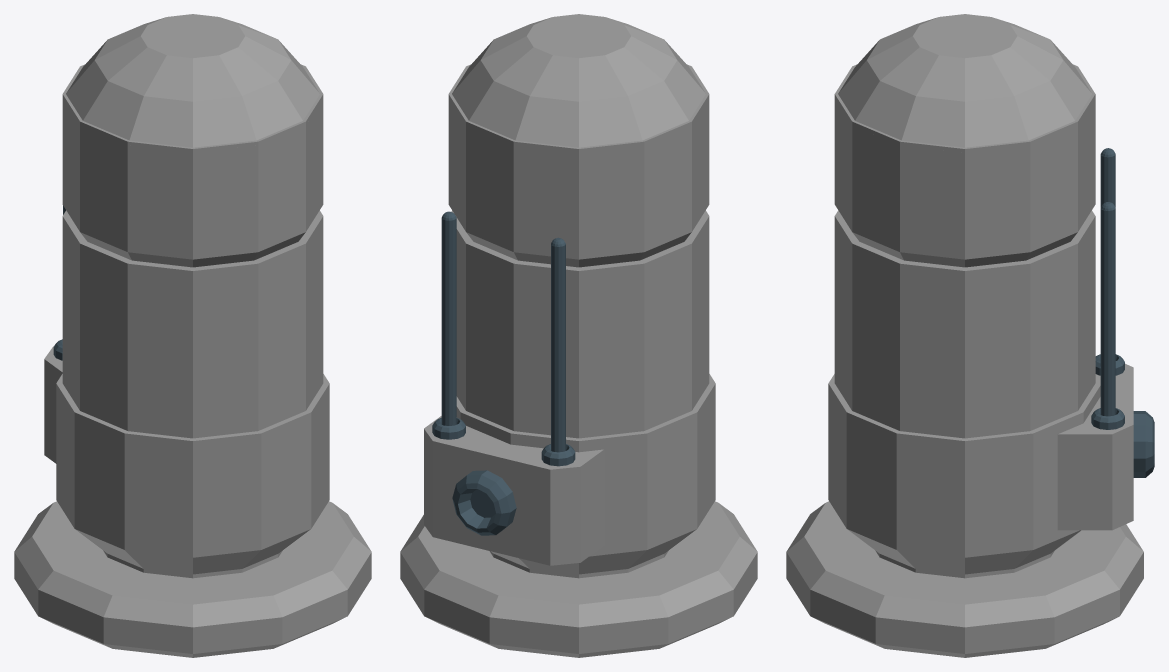
Rendered from head04.glb.
3 views of the same model, side by side, from view 1: azimuth 30°, elevation 25°; view 2: azimuth 150°, elevation 25°; view 3: azimuth 270°, elevation 25° (orthographic).
Visible parts, largest first — view 1: group688506095; view 2: group688506095; view 3: group688506095.
Part boxes in pixels (x1=…): group688506095: x1=14, y1=14, x2=371, y2=657; group688506095: x1=400, y1=14, x2=757, y2=657; group688506095: x1=786, y1=14, x2=1154, y2=657.
Bounding box in the file's own units: 0.73 × 1.27 × 0.7519.
